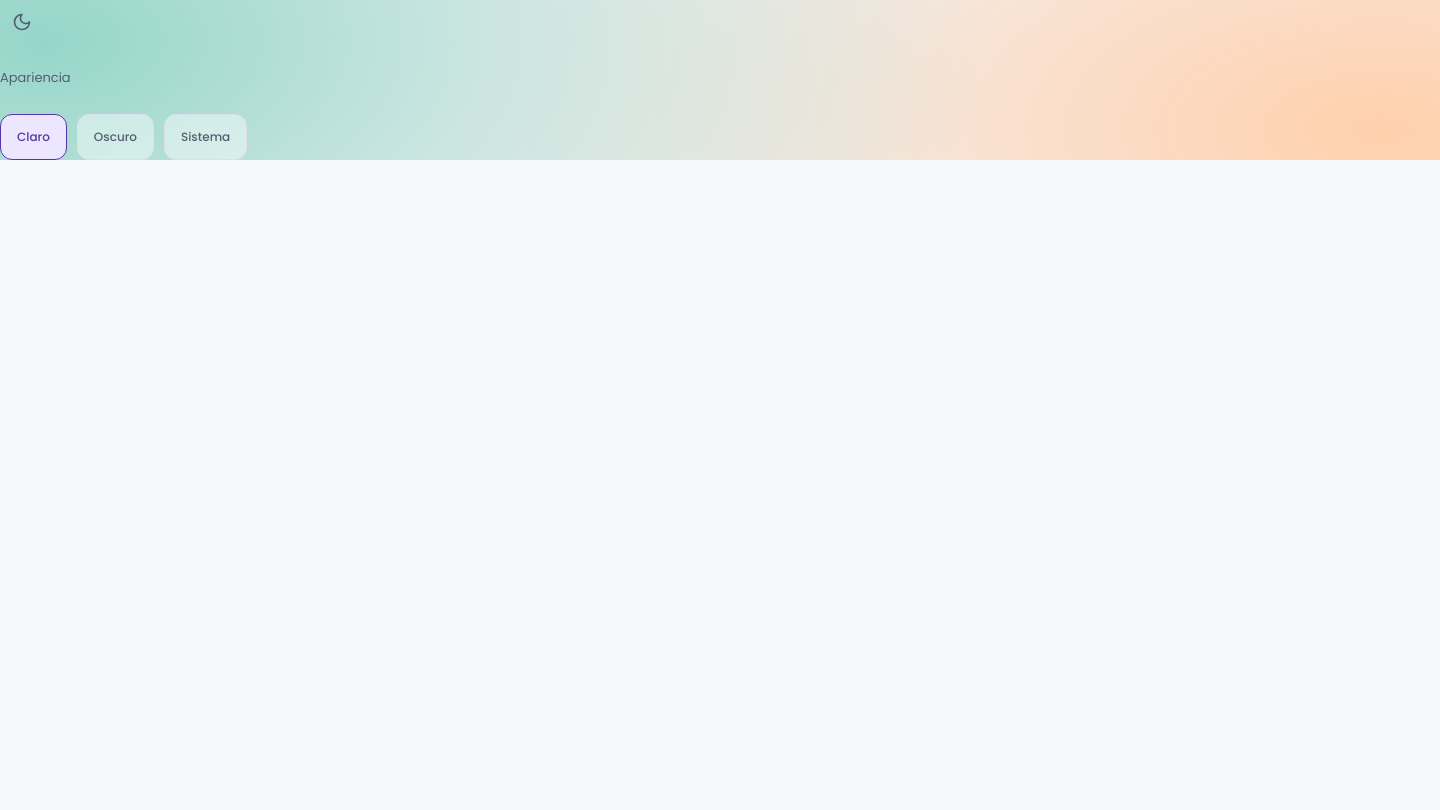
Test: fallo al sincronizar tema conserva elección local y muestra el estado
The image size is (1440, 810).
Click the button named "Activar modo oscuro": coordinates (22, 22) left=0, top=0, right=44, bottom=44
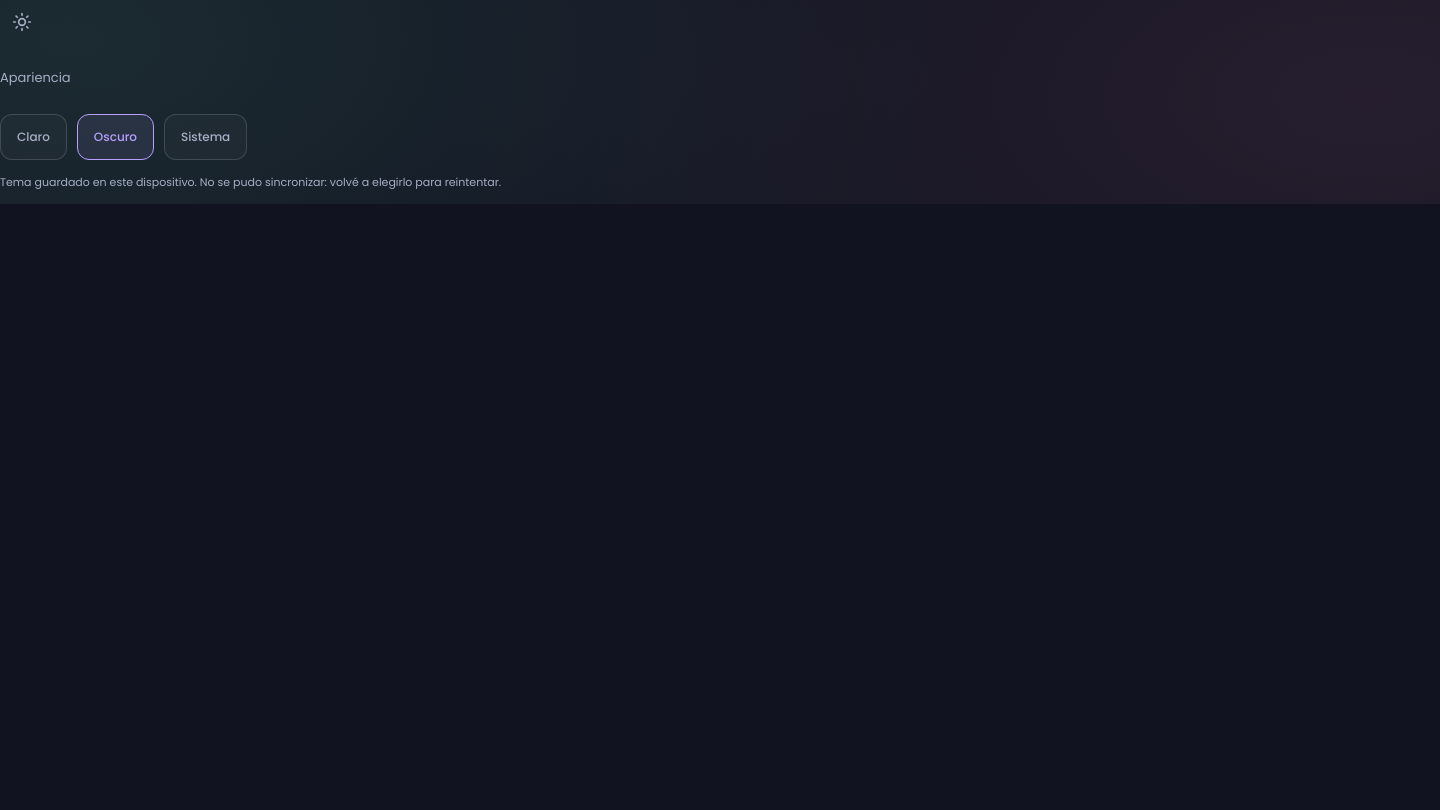
Result: the text "No se pudo sincronizar" is shown at left=0, top=174, right=501, bottom=190
